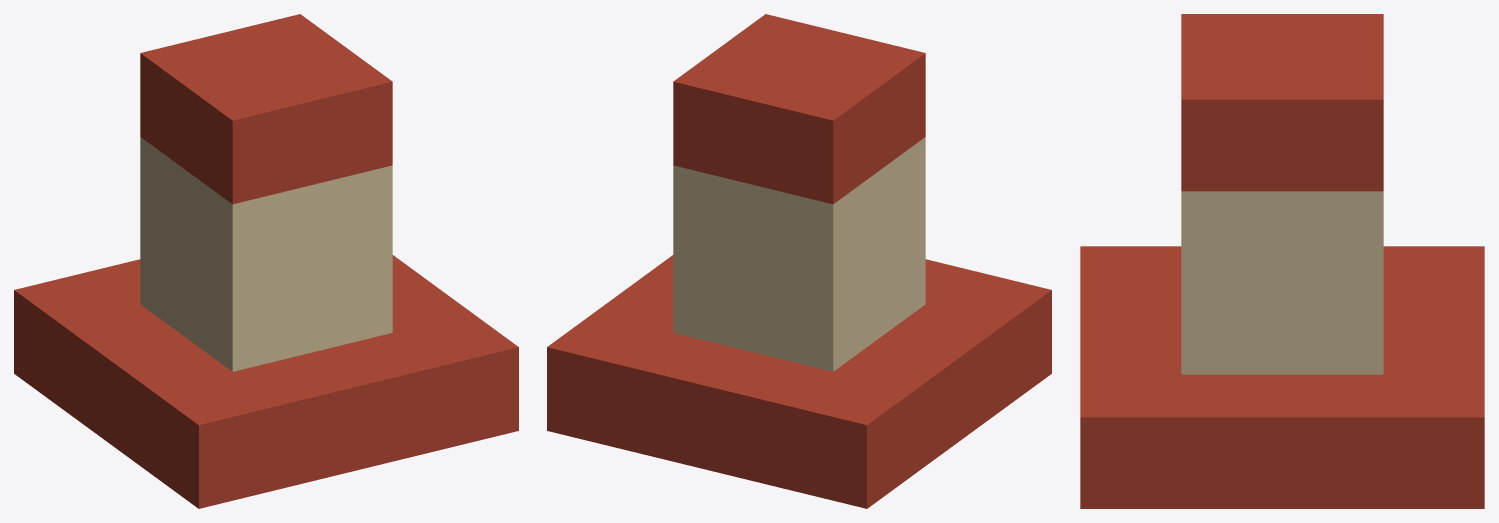
Rendered from roof_tower.glb.
3 views of the same model, side by side, from view 1: azimuth 30°, elevation 25°; view 2: azimuth 150°, elevation 25°; view 3: azimuth 270°, elevation 25° (orthographic). The views are drawn at different scales.
Parts seen in each view (by area): view 1: roof_tower; view 2: roof_tower; view 3: roof_tower.
Boxes of the visible parts, x1=… form: roof_tower: x1=14, y1=14, x2=518, y2=508; roof_tower: x1=547, y1=14, x2=1051, y2=508; roof_tower: x1=1080, y1=14, x2=1484, y2=508.
Size of the model in its own units: 1 by 1 by 1.
Materials: 1 (1 with a texture image).
